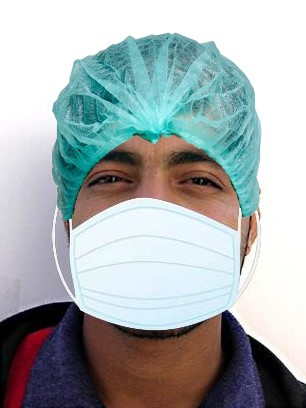with_mask_and_cap: (56, 40, 257, 332)
